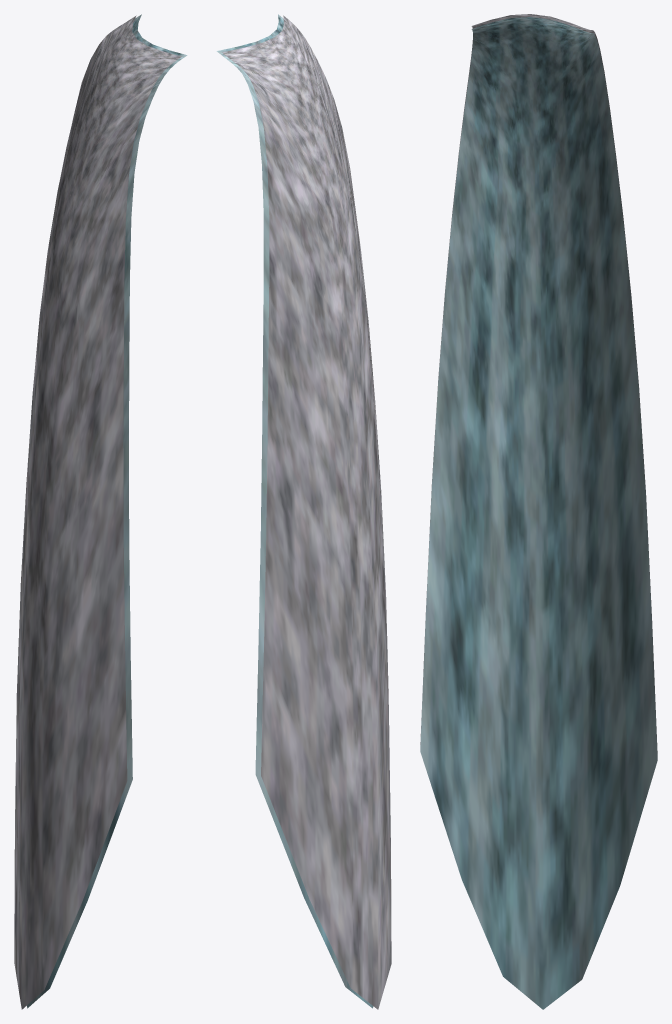
The model's file is SWORDLIGHT20_WATERFALLTOPIN.fbx.
The picture shows the model from 3 angles, left to right: view 1: azimuth 30°, elevation 25°; view 2: azimuth 150°, elevation 25°; view 3: azimuth 270°, elevation 25°; orthographic projection. The views are drawn at different scales.
Parts seen in each view (by area): view 1: SWORDLIGHT20_WATERFALLTOPIN; view 2: SWORDLIGHT20_WATERFALLTOPIN; view 3: SWORDLIGHT20_WATERFALLTOPIN.
Part boxes in pixels (<box>): SWORDLIGHT20_WATERFALLTOPIN: <box>14,14,187,1009</box>; SWORDLIGHT20_WATERFALLTOPIN: <box>216,14,391,1009</box>; SWORDLIGHT20_WATERFALLTOPIN: <box>420,14,657,1009</box>.
Size of the model in its own units: 86325 by 552394 by 112998.
2 materials, 2 textured.
